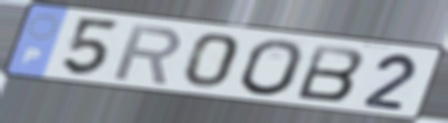0: (179, 31, 244, 91)
2: (355, 49, 424, 113)
5: (61, 14, 125, 79)
B: (293, 42, 368, 103)
O: (237, 37, 307, 98)
R: (110, 22, 185, 87)
